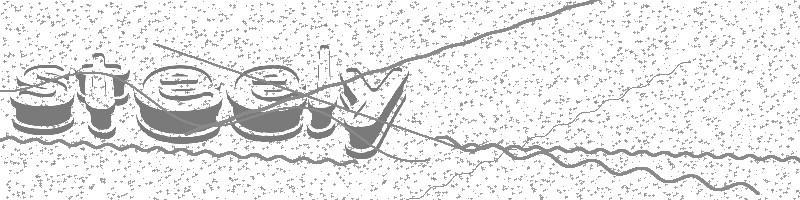e: (138, 62, 225, 147), (224, 62, 310, 142)
l: (304, 45, 338, 146)
s: (9, 56, 74, 138)
t: (73, 49, 134, 139)
y: (336, 60, 415, 167)
